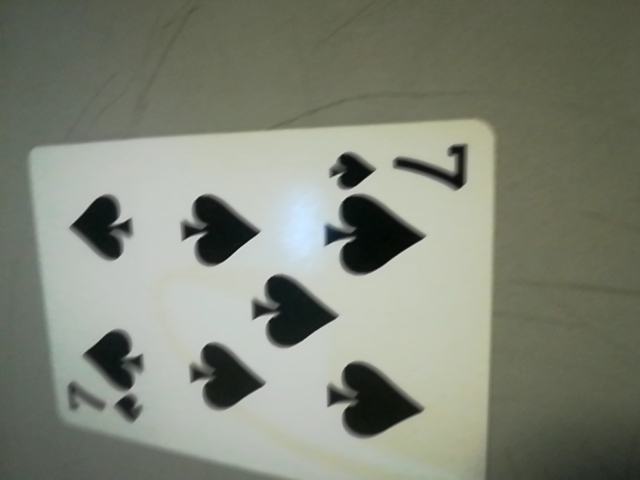ht 7: (321, 137, 478, 199)
